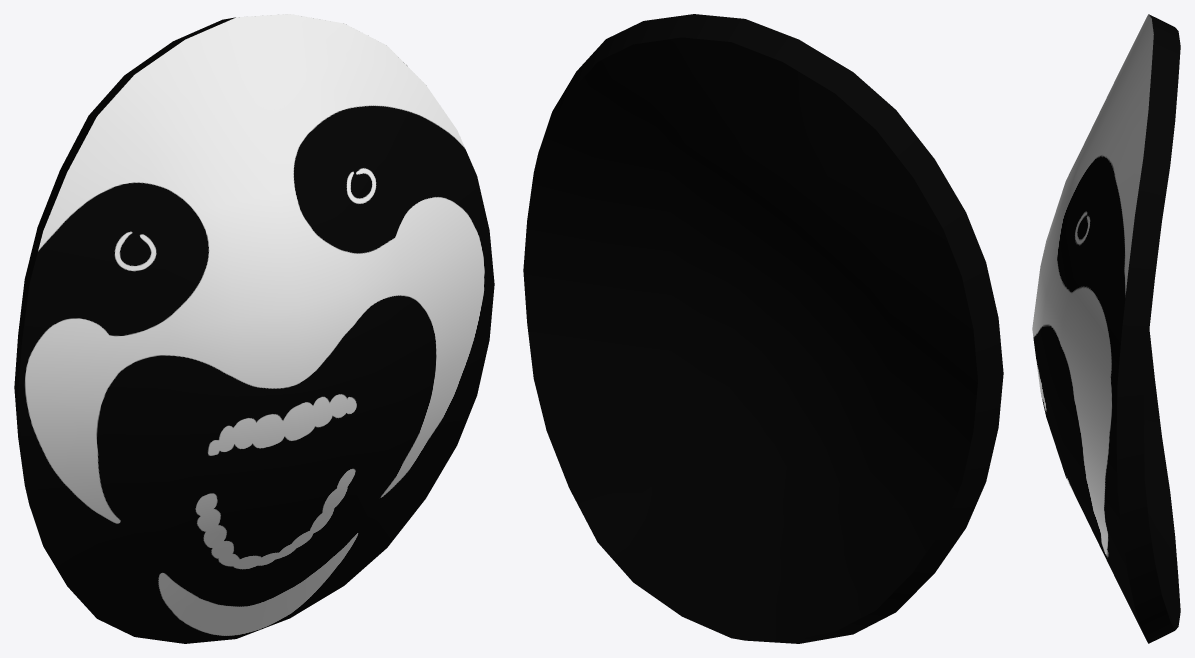
File: MascaraEnemigo.fbx
3 views of the same model, side by side, from view 1: azimuth 30°, elevation 25°; view 2: azimuth 150°, elevation 25°; view 3: azimuth 270°, elevation 25° (orthographic). The views are drawn at different scales.
Visible parts, largest first — view 1: Cube.001; view 2: Cube.001; view 3: Cube.001.
Part boxes in pixels (box(x1,y1,x2,y2)): Cube.001: box(14, 14, 494, 643); Cube.001: box(523, 14, 1003, 643); Cube.001: box(1032, 14, 1180, 643).
Size of the model in its own units: 122 by 152 by 34.64.
